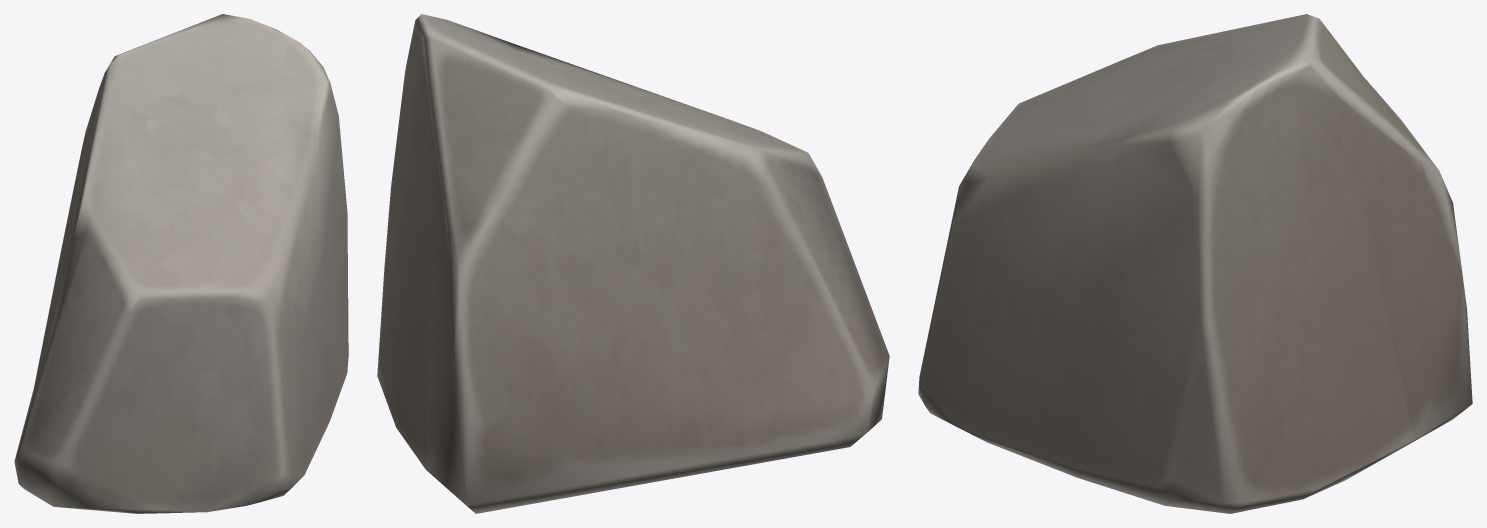
File: sylized_06.obj
3 renders of one model, left to right at view 1: azimuth 30°, elevation 25°; view 2: azimuth 150°, elevation 25°; view 3: azimuth 270°, elevation 25°, orthographic. The views are drawn at different scales.
Visible parts, largest first — view 1: SM_Rocks_02; view 2: SM_Rocks_02; view 3: SM_Rocks_02.
Part boxes in pixels (<box>): SM_Rocks_02: <box>14,14,348,513</box>; SM_Rocks_02: <box>377,14,889,513</box>; SM_Rocks_02: <box>918,14,1472,513</box>.
Size of the model in its own units: 61.74 by 55.86 by 66.02.
